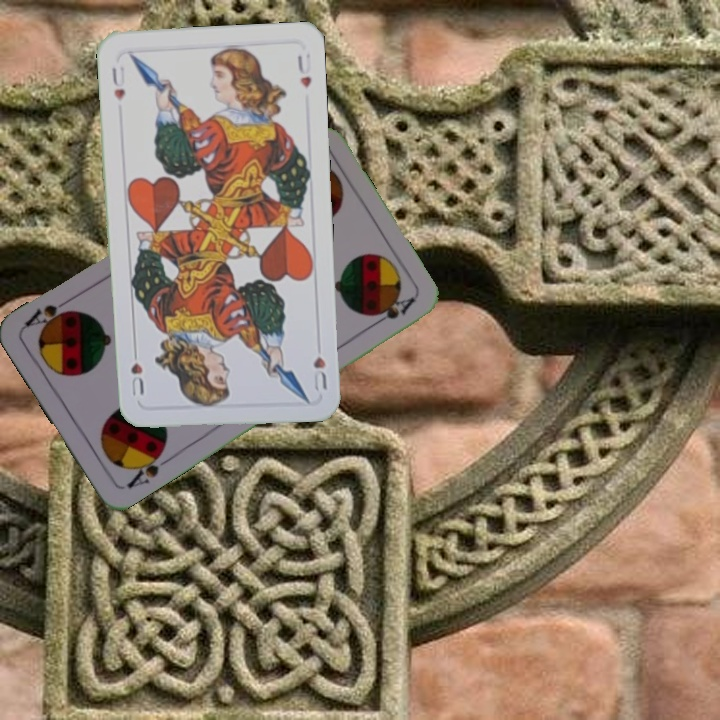HU: (108, 62, 128, 103), (309, 353, 329, 393)
SA: (123, 445, 173, 491)
